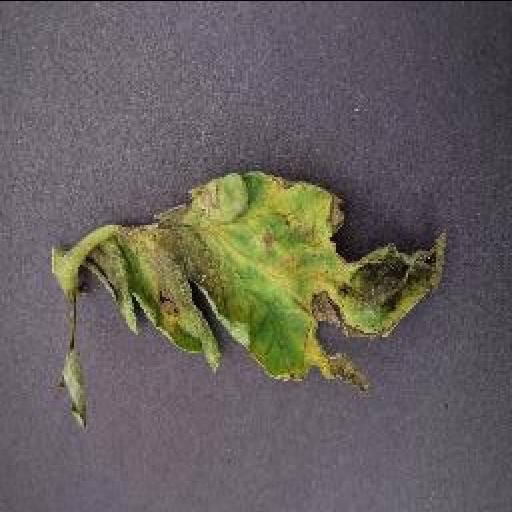disease_tomato: (49, 174, 455, 428)
